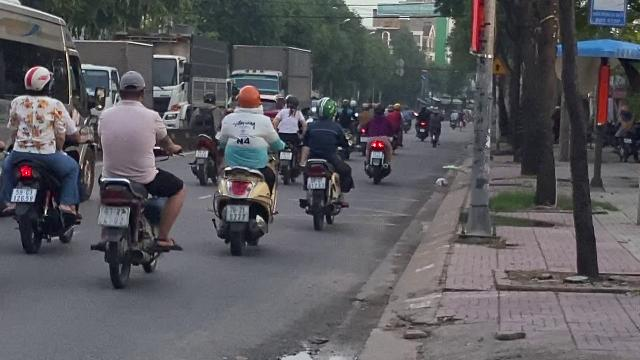helmet: (22, 65, 52, 95), (234, 84, 262, 108), (316, 96, 336, 118)
licenseplate: (98, 206, 128, 226), (226, 205, 248, 221), (11, 187, 35, 201), (307, 177, 325, 189)
motorcyclist: (86, 69, 186, 288), (0, 64, 84, 255), (208, 84, 280, 254), (298, 96, 354, 228)
nohelmet: (115, 70, 146, 102)
